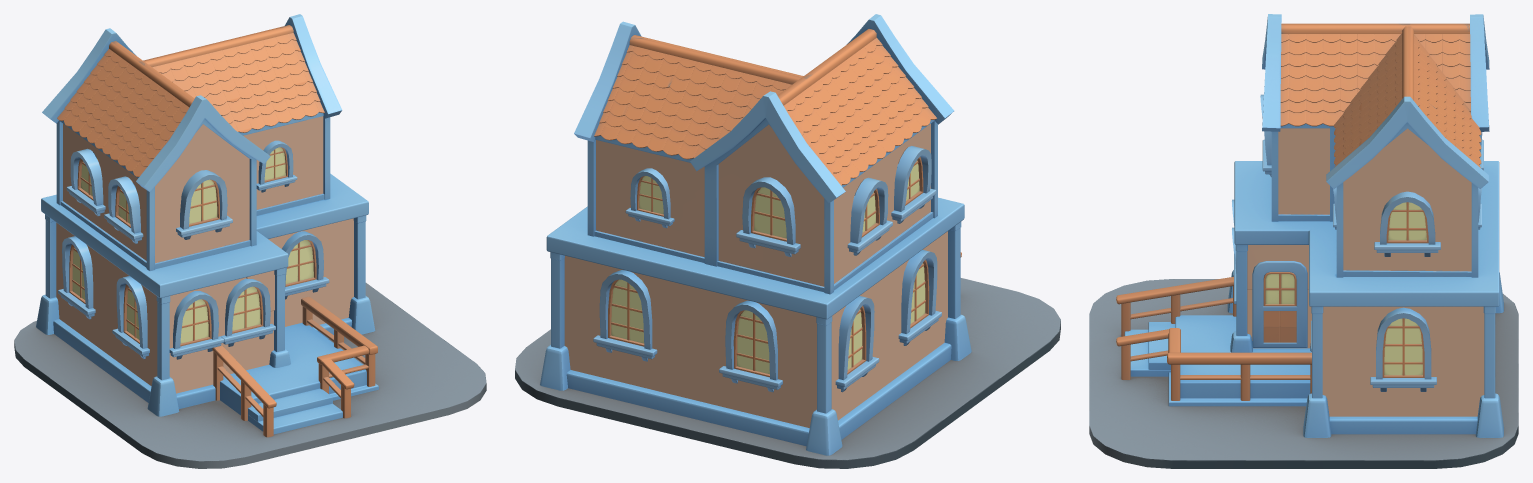
The picture shows the model from 3 angles, left to right: view 1: azimuth 30°, elevation 25°; view 2: azimuth 150°, elevation 25°; view 3: azimuth 270°, elevation 25°; orthographic projection. The views are drawn at different scales.
Parts seen in each view (by area): view 1: SM_Stylized_House; view 2: SM_Stylized_House; view 3: SM_Stylized_House.
Boxes of the visible parts, x1=… form: SM_Stylized_House: x1=14, y1=14, x2=486, y2=468; SM_Stylized_House: x1=515, y1=14, x2=1060, y2=468; SM_Stylized_House: x1=1089, y1=14, x2=1518, y2=468.
Size of the model in its own units: 3.23 by 2.74 by 3.23.
Materials: 4 (4 with a texture image).
